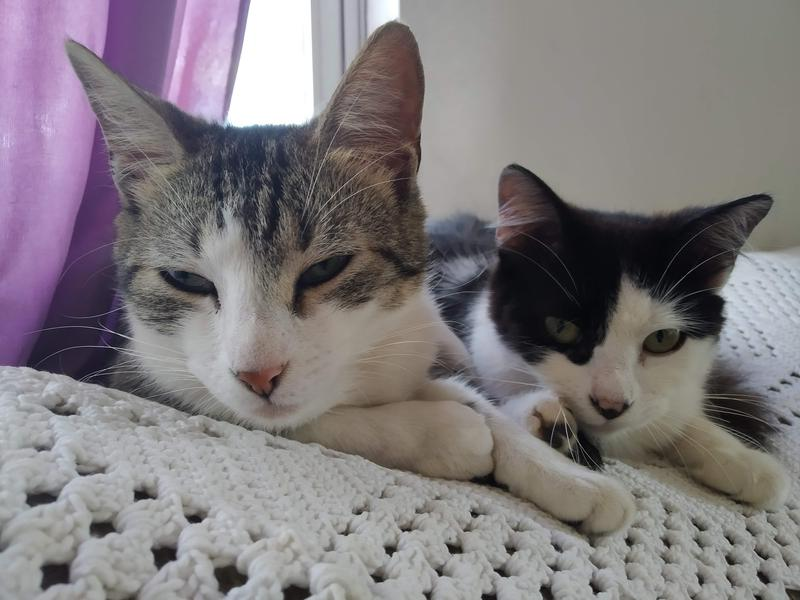boo: (60, 13, 634, 534)
jupiter: (421, 160, 791, 515)
